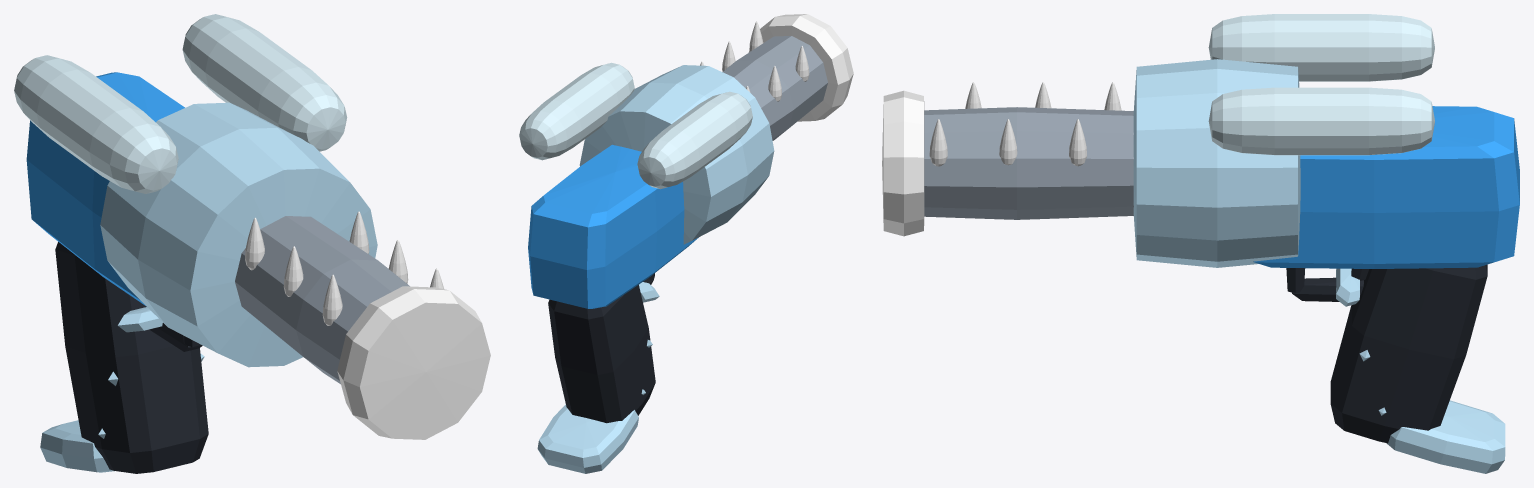
Rendered from g-x-freeze.glb.
3 views of the same model, side by side, from view 1: azimuth 30°, elevation 25°; view 2: azimuth 150°, elevation 25°; view 3: azimuth 270°, elevation 25° (orthographic). The views are drawn at different scales.
Visible parts, largest first — view 1: gun; view 2: gun; view 3: gun.
Part boxes in pixels (x1,y1,x2,y2): gun: (14,14,490,473); gun: (519,14,853,473); gun: (882,14,1519,473).
Bounding box in the file's own units: 0.2794 × 0.5123 × 0.7323.
